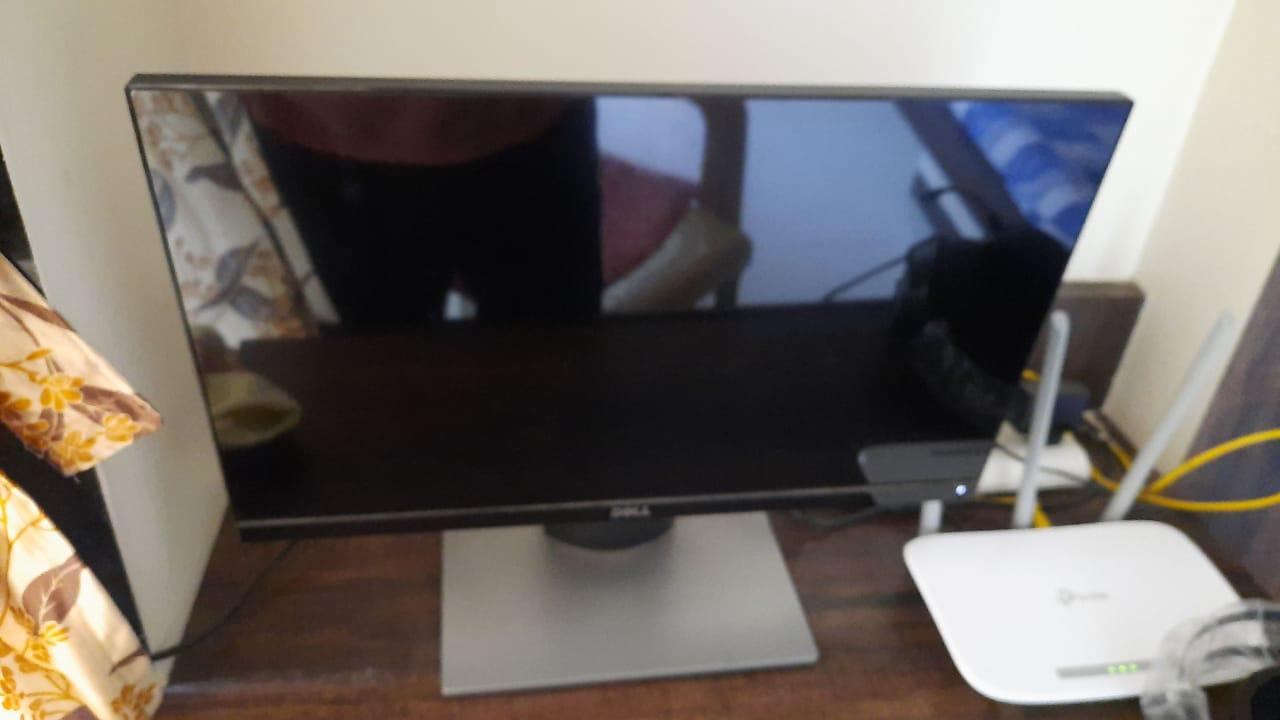monitor: (117, 62, 1140, 706)
